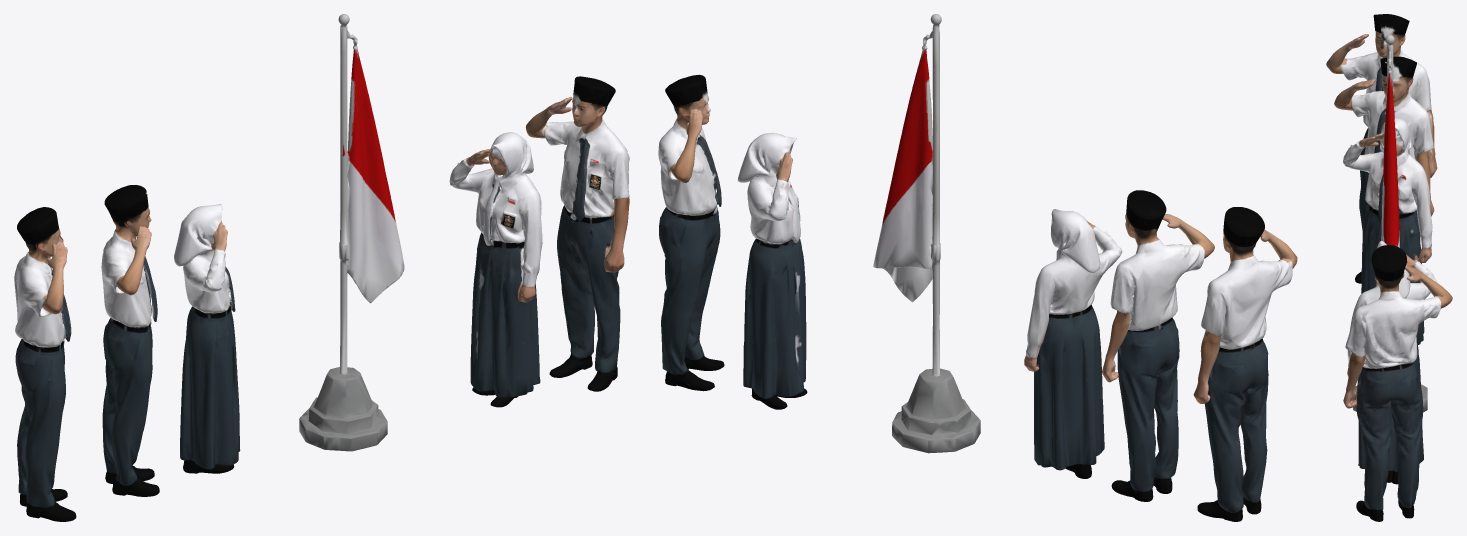
File: 2__Kewargaan_final.glb
3 views of the same model, side by side, from view 1: azimuth 30°, elevation 25°; view 2: azimuth 150°, elevation 25°; view 3: azimuth 270°, elevation 25° (orthographic). The views are drawn at different scales.
Size of the model in its own units: 1.9 by 1.27 by 0.3908.
1 material, 1 textured.
